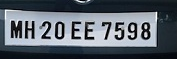0: (55, 20, 65, 40)
2: (40, 21, 52, 39)
5: (114, 21, 126, 42)
7: (101, 21, 113, 41)
8: (140, 21, 152, 41)
9: (127, 21, 138, 40)
E: (71, 20, 82, 40), (84, 21, 95, 40)
H: (24, 20, 37, 39)
M: (10, 20, 23, 39)
